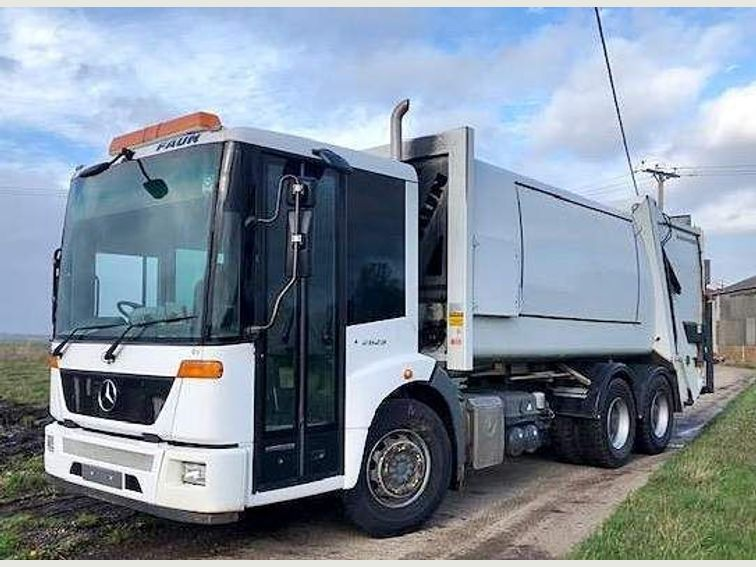Semi: (43, 97, 713, 538)
